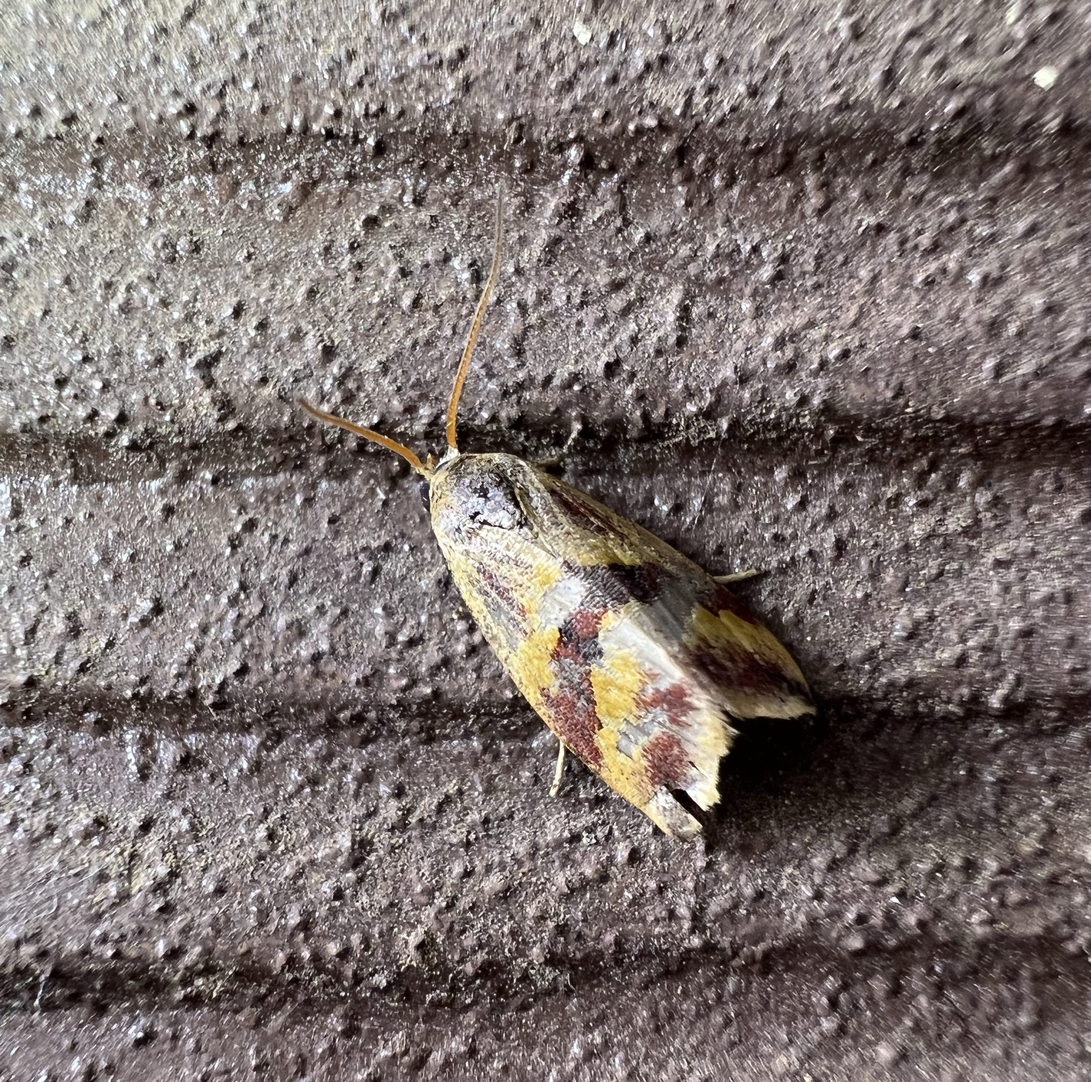Noctuidae: (287, 188, 821, 851)
